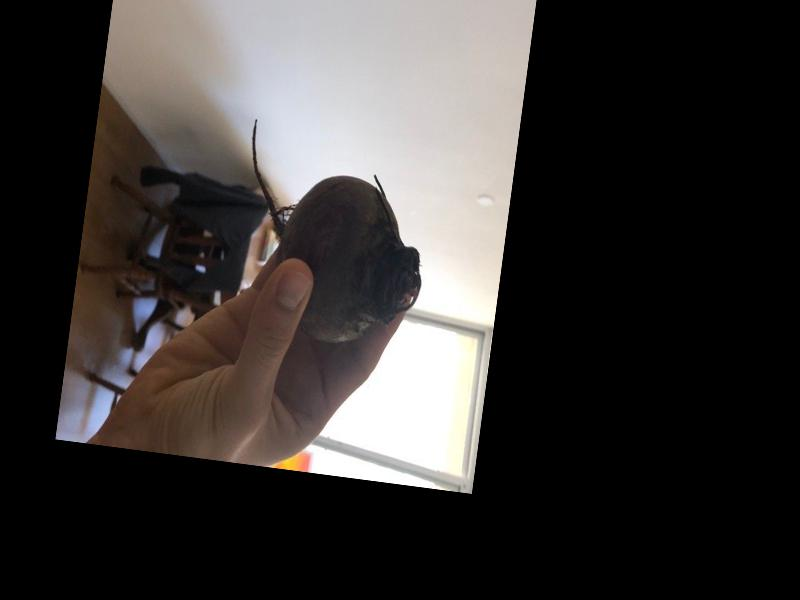Beet: (227, 119, 439, 352)
